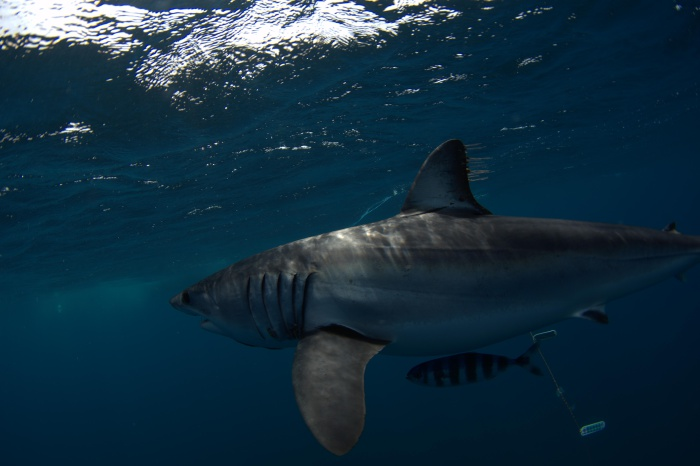Mako: (159, 136, 700, 460)
